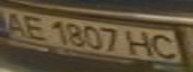0: (81, 24, 103, 51)
1: (45, 18, 69, 45)
7: (100, 25, 124, 53)
8: (63, 20, 87, 48)
A: (0, 8, 30, 37)
C: (145, 33, 184, 60)
E: (18, 12, 51, 41)
H: (124, 28, 160, 57)
